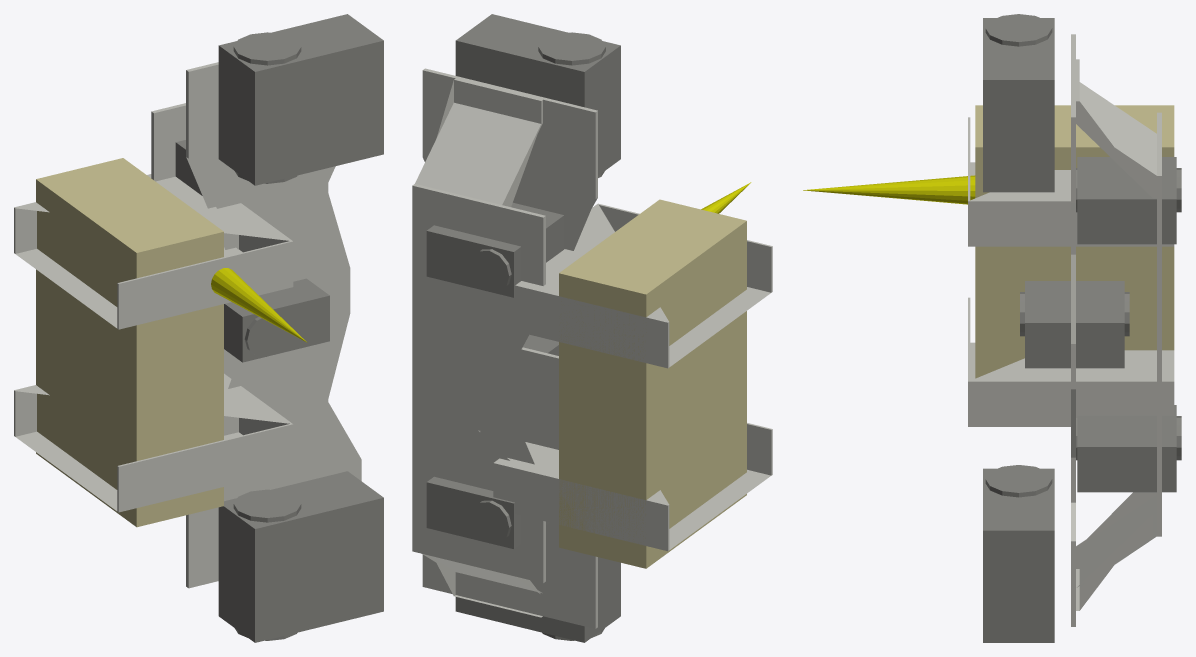
3 views of the same model, side by side, from view 1: azimuth 30°, elevation 25°; view 2: azimuth 150°, elevation 25°; view 3: azimuth 270°, elevation 25° (orthographic).
Size of the model in its own units: 0.1352 by 0.2538 by 0.153.
